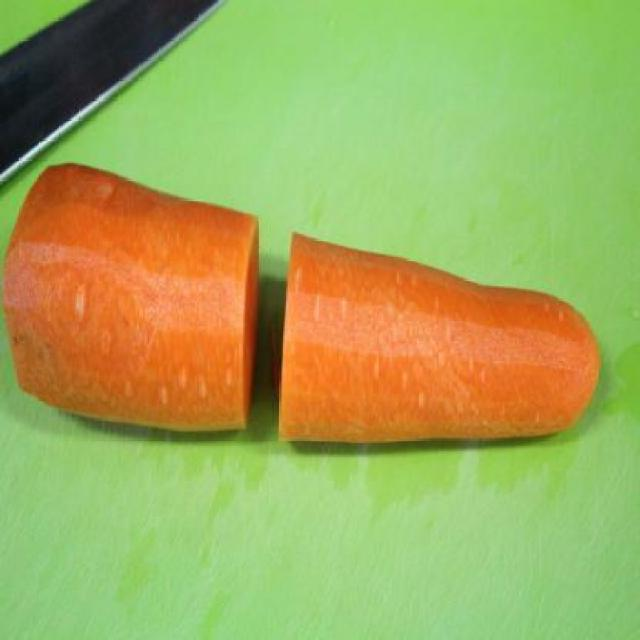carrot: (2, 153, 269, 440), (272, 229, 603, 456)
